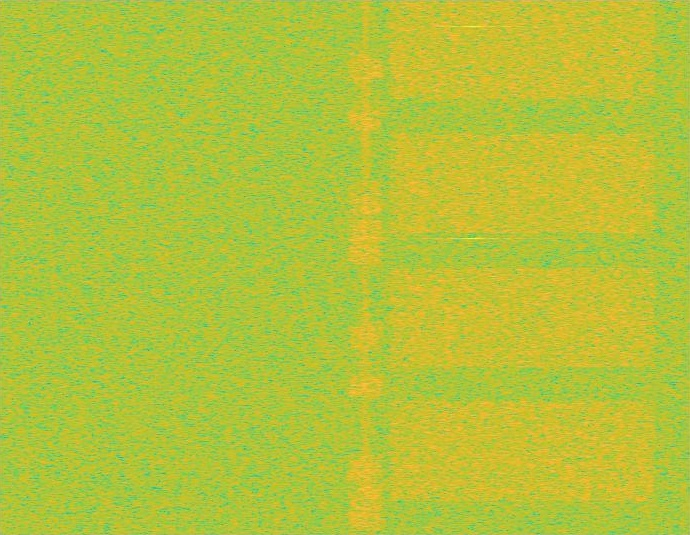5G: (385, 0, 661, 534)
DSSS: (362, 0, 370, 534)
LTE: (348, 0, 383, 534)
Radar: (466, 0, 480, 534)
